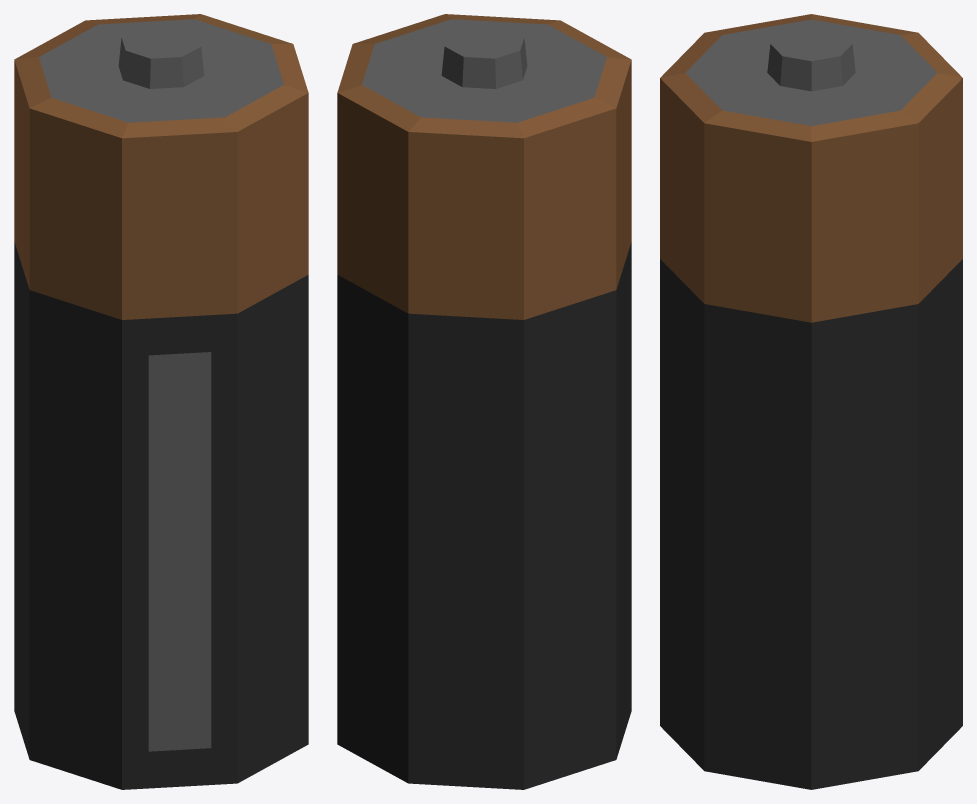
File: Battery-MYa3uWdwPU.glb
3 renders of one model, left to right at view 1: azimuth 30°, elevation 25°; view 2: azimuth 150°, elevation 25°; view 3: azimuth 270°, elevation 25°, orthographic.
Visible parts, largest first — view 1: Battery-MYa3uWdwPU; view 2: Battery-MYa3uWdwPU; view 3: Battery-MYa3uWdwPU.
Boxes of the visible parts, left/top/right/bottom form: Battery-MYa3uWdwPU: left=14, top=14, right=308, bottom=789; Battery-MYa3uWdwPU: left=337, top=14, right=631, bottom=789; Battery-MYa3uWdwPU: left=660, top=14, right=962, bottom=789.
Bounding box in the file's own units: 0.1838 × 0.4568 × 0.1838.
